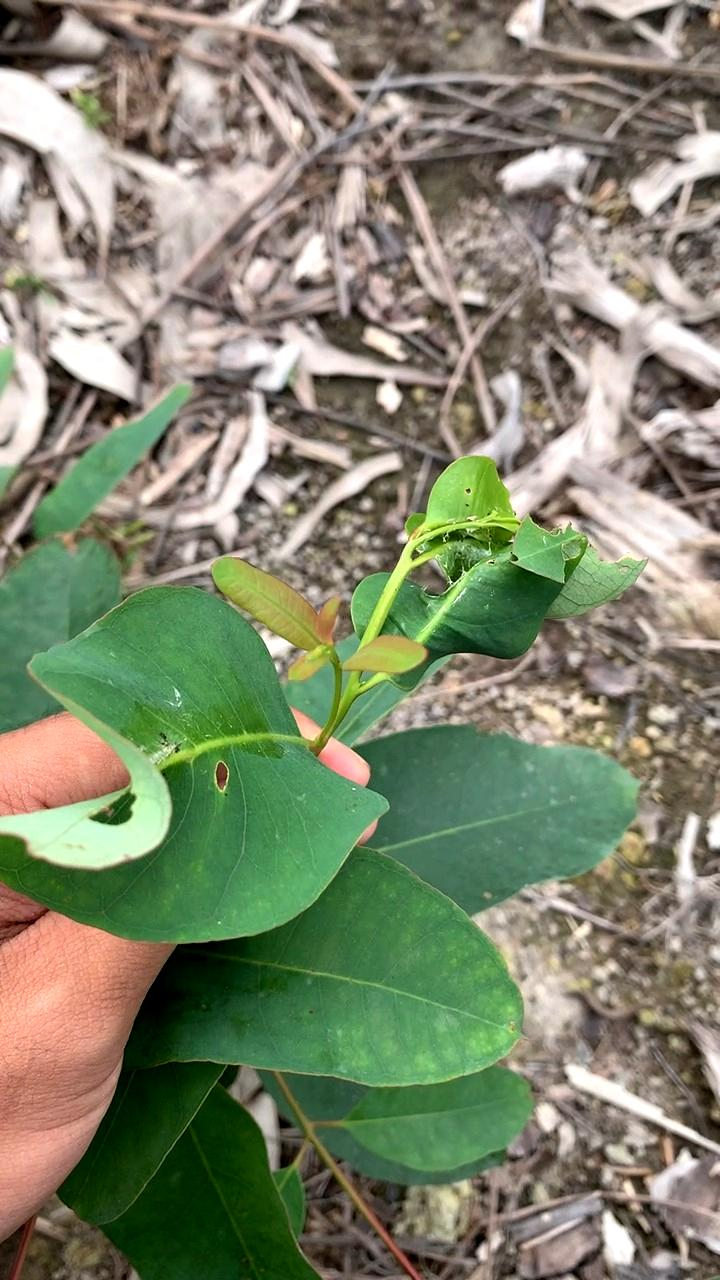Leaf Roller - Leaf: (3, 651, 355, 935), (396, 470, 639, 667)
